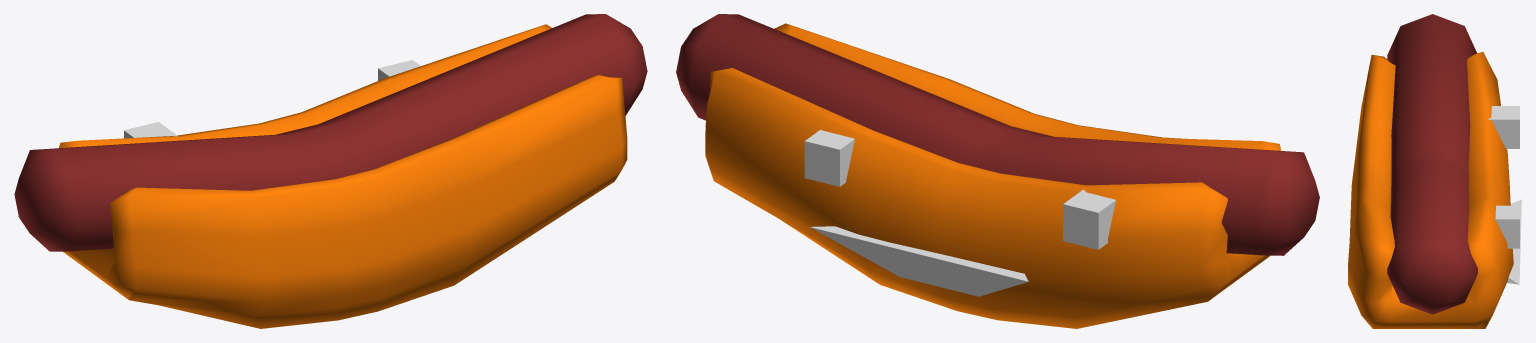
File: hotdog.fbx
3 views of the same model, side by side, from view 1: azimuth 30°, elevation 25°; view 2: azimuth 150°, elevation 25°; view 3: azimuth 270°, elevation 25° (orthographic). The views are drawn at different scales.
Parts seen in each view (by area): view 1: mHotDogBread, mHotDogSosidge, Cube.001; view 2: mHotDogBread, mHotDogSosidge, Cube.002, Cube.001, Cube; view 3: mHotDogSosidge, mHotDogBread, Cube.001, Cube, Cube.002.
Boxes of the visible parts, bbox=[...] form: mHotDogBread: bbox=[59, 24, 627, 328]; mHotDogSosidge: bbox=[14, 14, 647, 251]; Cube.001: bbox=[124, 122, 177, 138]; mHotDogBread: bbox=[705, 23, 1281, 328]; mHotDogSosidge: bbox=[676, 14, 1319, 255]; Cube.002: bbox=[810, 226, 1028, 296]; Cube.001: bbox=[1063, 189, 1115, 249]; Cube: bbox=[804, 130, 854, 186]; mHotDogSosidge: bbox=[1387, 14, 1477, 314]; mHotDogBread: bbox=[1348, 52, 1513, 328]; Cube.001: bbox=[1488, 106, 1519, 148]; Cube: bbox=[1495, 205, 1519, 248]; Cube.002: bbox=[1507, 199, 1521, 284].
Bounding box in the file's own units: 17269 × 5561 × 5370.
